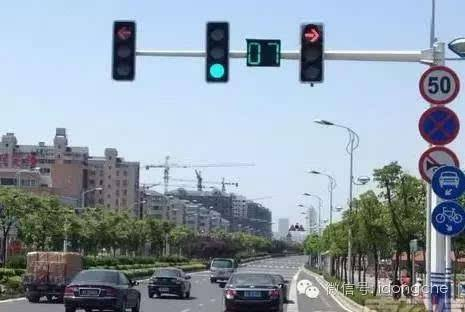green: (201, 18, 233, 87)
red: (297, 17, 327, 87), (110, 18, 138, 84)
